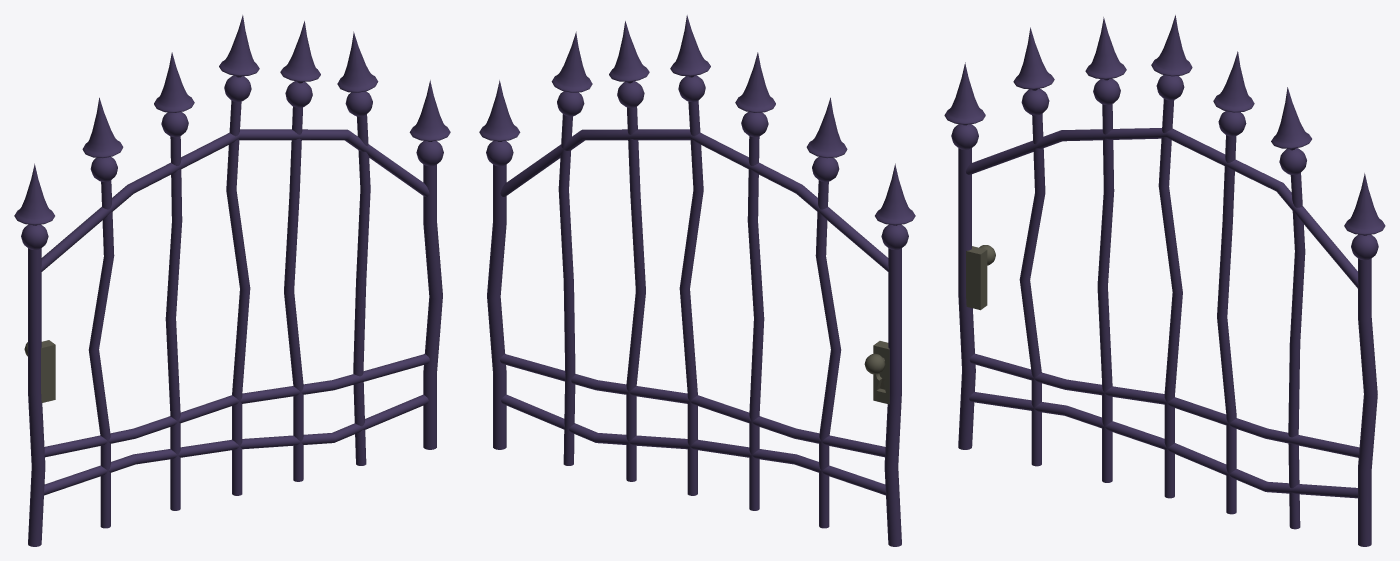
File: Gate.fbx
3 renders of one model, left to right at view 1: azimuth 30°, elevation 25°; view 2: azimuth 150°, elevation 25°; view 3: azimuth 330°, elevation 25°, orthographic.
Visible parts, largest first — view 1: gate_fence, doorlock; view 2: gate_fence, doorlock; view 3: gate_fence, doorlock.
Boxes of the visible parts, box(x1,y1,x2,y2) form: gate_fence: box(14, 15, 450, 546); doorlock: box(24, 340, 55, 402); gate_fence: box(479, 15, 915, 546); doorlock: box(864, 341, 889, 404); gate_fence: box(944, 15, 1385, 546); doorlock: box(966, 245, 995, 310).
Bounding box in the file's own units: 1074 × 1141 × 110.
